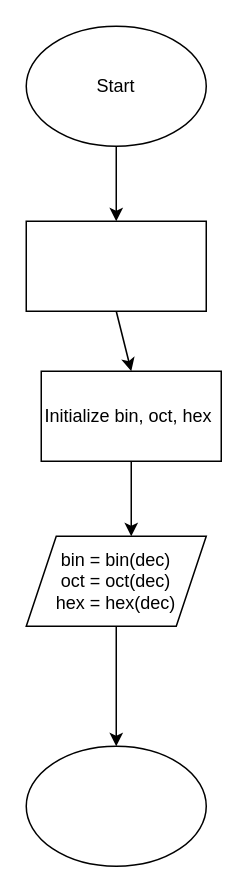
Some shapes in this 248 by 893 pixel diagram are drawn without their labels. Here are the shapes that lost their labels. From the top down, the box of each, then its label:
(25, 220, 206, 311): Get the Decimal Number dec
(25, 745, 206, 866): end
